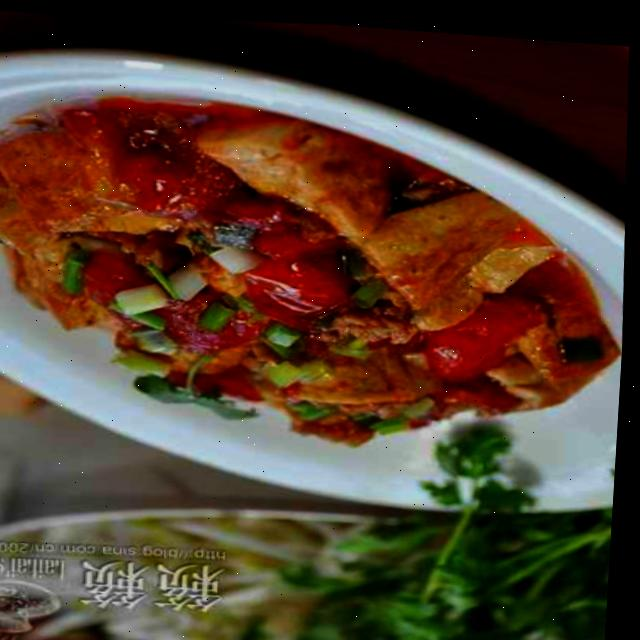豆腐料理: (0, 16, 639, 553)
